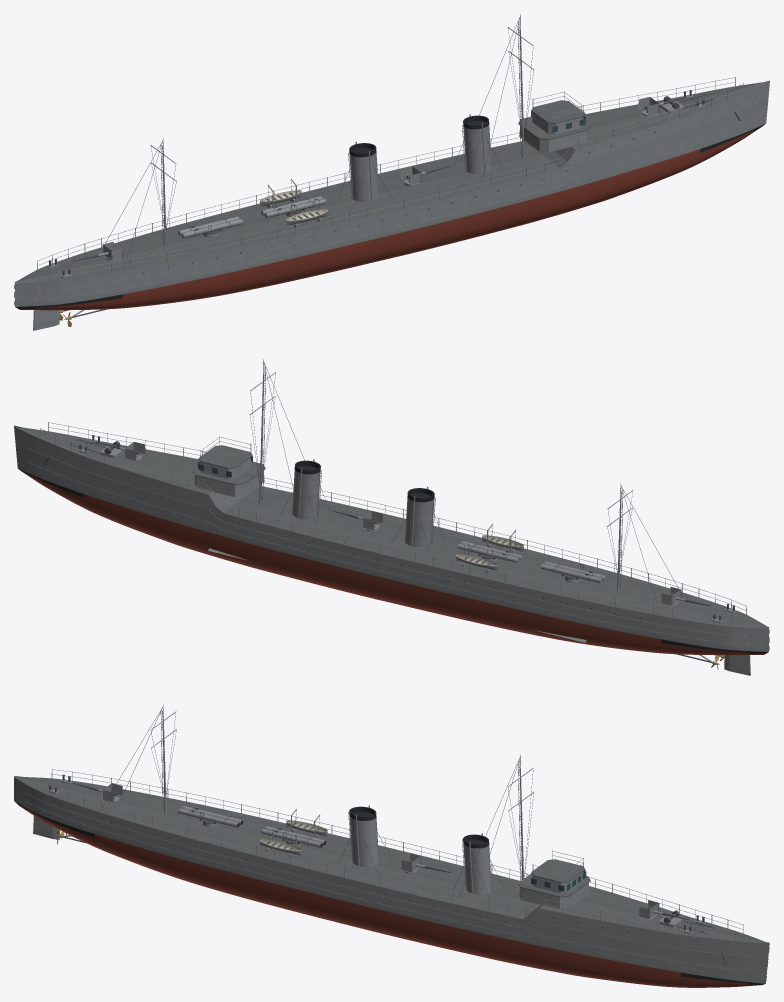
The model's file is s_class_dd_rn.glb.
The picture shows the model from 3 angles, top to bottom: view 1: azimuth 30°, elevation 25°; view 2: azimuth 150°, elevation 25°; view 3: azimuth 330°, elevation 25°; orthographic projection.
Visible parts, largest first — view 1: S class; view 2: S class; view 3: S class.
Boxes of the visible parts, box(x1,y1,x2,y2) form: S class: box(14, 14, 769, 330); S class: box(14, 359, 769, 675); S class: box(14, 704, 769, 987).
Bounding box in the file's own units: 84.12 × 21.3 × 8.23.
Materials: 8 (2 with a texture image).
